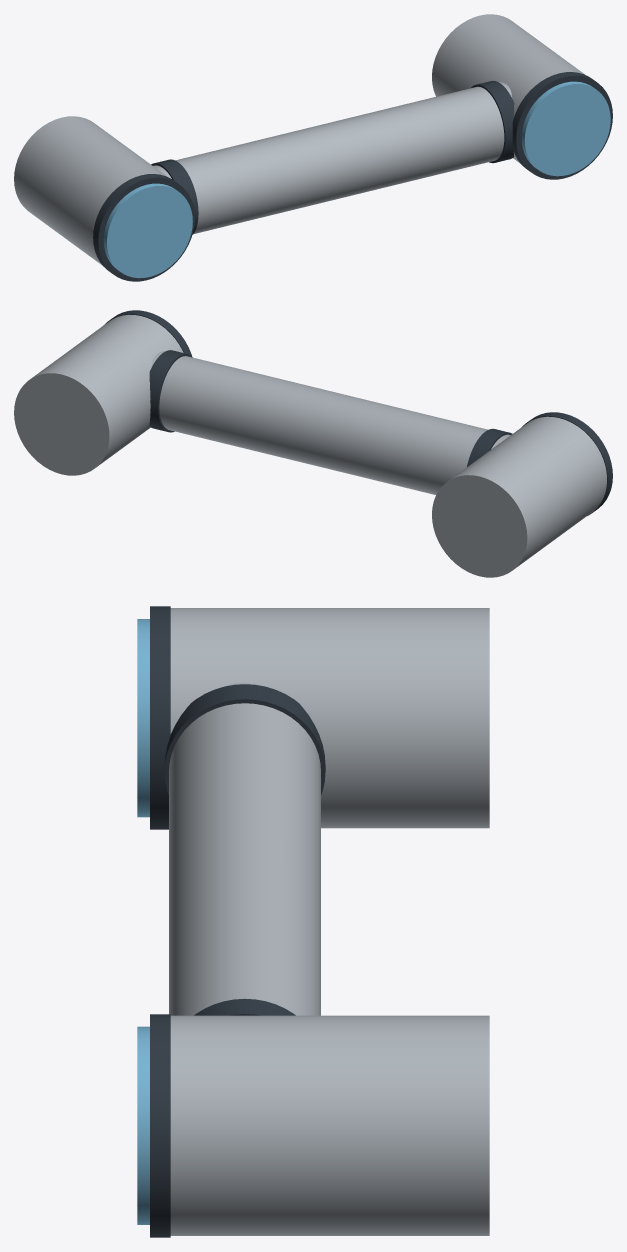
Rendered from upper_arm_link.obj.
The picture shows the model from 3 angles, top to bottom: view 1: azimuth 30°, elevation 25°; view 2: azimuth 150°, elevation 25°; view 3: azimuth 270°, elevation 25°; orthographic projection. The views are drawn at different scales.
Visible parts, largest first — view 1: upper_tube, joint_1, joint_0, cap_0, cap_1, joint_ring_1, joint_ring_0, tube_collar_0, tube_collar_1; view 2: upper_tube, joint_1, joint_0, tube_collar_0, joint_ring_1, tube_collar_1, joint_ring_0; view 3: joint_0, joint_1, upper_tube, joint_ring_0, joint_ring_1, tube_collar_1, cap_0, cap_1, tube_collar_0.
Part boxes in pixels (box(x1,y1,x2,y2)): upper_tube: box(153, 82, 511, 234); joint_1: box(14, 116, 167, 265); joint_0: box(432, 14, 585, 163); cap_0: box(521, 81, 610, 176); cap_1: box(103, 183, 192, 278); joint_ring_1: box(93, 174, 194, 281); joint_ring_0: box(512, 72, 612, 179); tube_collar_0: box(471, 80, 514, 163); tube_collar_1: box(151, 159, 198, 234); upper_tube: box(151, 351, 510, 494); joint_1: box(432, 416, 606, 577); joint_0: box(14, 314, 183, 475); tube_collar_0: box(149, 350, 192, 432); joint_ring_1: box(522, 412, 612, 515); tube_collar_1: box(467, 428, 512, 466); joint_ring_0: box(103, 310, 191, 355); joint_0: box(170, 1015, 489, 1235); joint_1: box(170, 608, 489, 828); upper_tube: box(169, 682, 320, 1015); joint_ring_0: box(150, 1014, 170, 1237); joint_ring_1: box(150, 606, 170, 829); tube_collar_1: box(164, 684, 325, 794); cap_0: box(137, 1026, 149, 1224); cap_1: box(137, 619, 149, 817); tube_collar_0: box(194, 998, 295, 1015).
Size of the model in its own units: 0.7975 by 0.15 by 0.2365.
